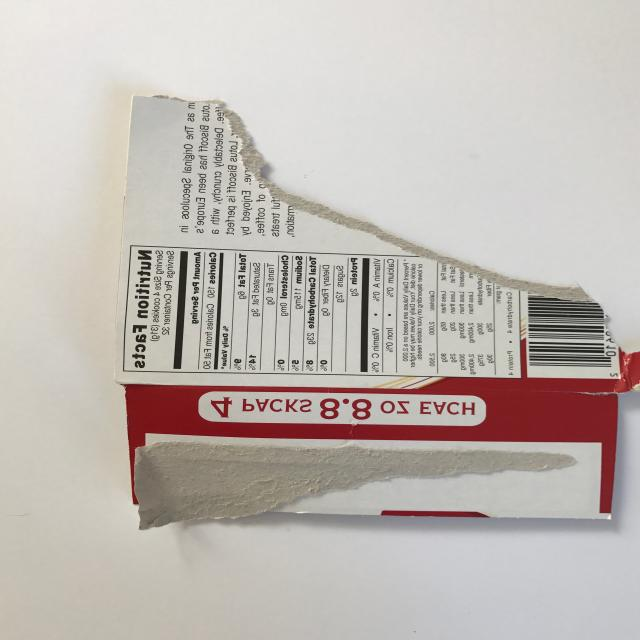paper: (63, 61, 640, 572)
